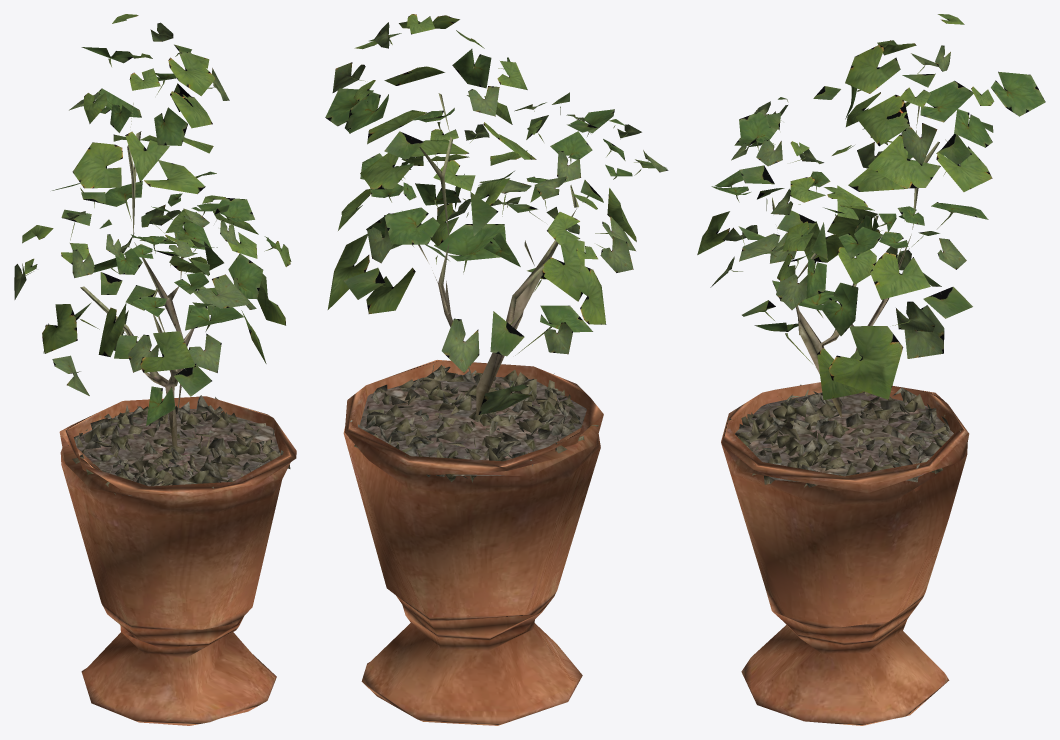
The model's file is potted_plant_low.glb.
3 views of the same model, side by side, from view 1: azimuth 30°, elevation 25°; view 2: azimuth 150°, elevation 25°; view 3: azimuth 270°, elevation 25° (orthographic). The views are drawn at different scales.
Parts seen in each view (by area): view 1: potted_plant_01_pot, potted_plant_01_leaves, potted_plant_01_pebbles, potted_plant_01_stem; view 2: potted_plant_01_pot, potted_plant_01_leaves, potted_plant_01_pebbles, potted_plant_01_stem; view 3: potted_plant_01_pot, potted_plant_01_leaves, potted_plant_01_pebbles, potted_plant_01_stem.
Part boxes in pixels (box(x1,y1,x2,y2)): potted_plant_01_pot: box(59, 396, 296, 725); potted_plant_01_leaves: box(14, 14, 291, 425); potted_plant_01_pebbles: box(68, 395, 290, 495); potted_plant_01_stem: box(80, 103, 194, 446); potted_plant_01_pot: box(343, 360, 603, 725); potted_plant_01_leaves: box(325, 14, 668, 414); potted_plant_01_pebbles: box(349, 364, 598, 482); potted_plant_01_stem: box(418, 93, 578, 415); potted_plant_01_pot: box(721, 382, 969, 725); potted_plant_01_leaves: box(697, 14, 1045, 400); potted_plant_01_pebbles: box(729, 384, 960, 487); potted_plant_01_stem: box(772, 106, 939, 417).
Size of the model in its own units: 0.5775 by 1.33 by 0.6294.
2 materials, 2 textured.
